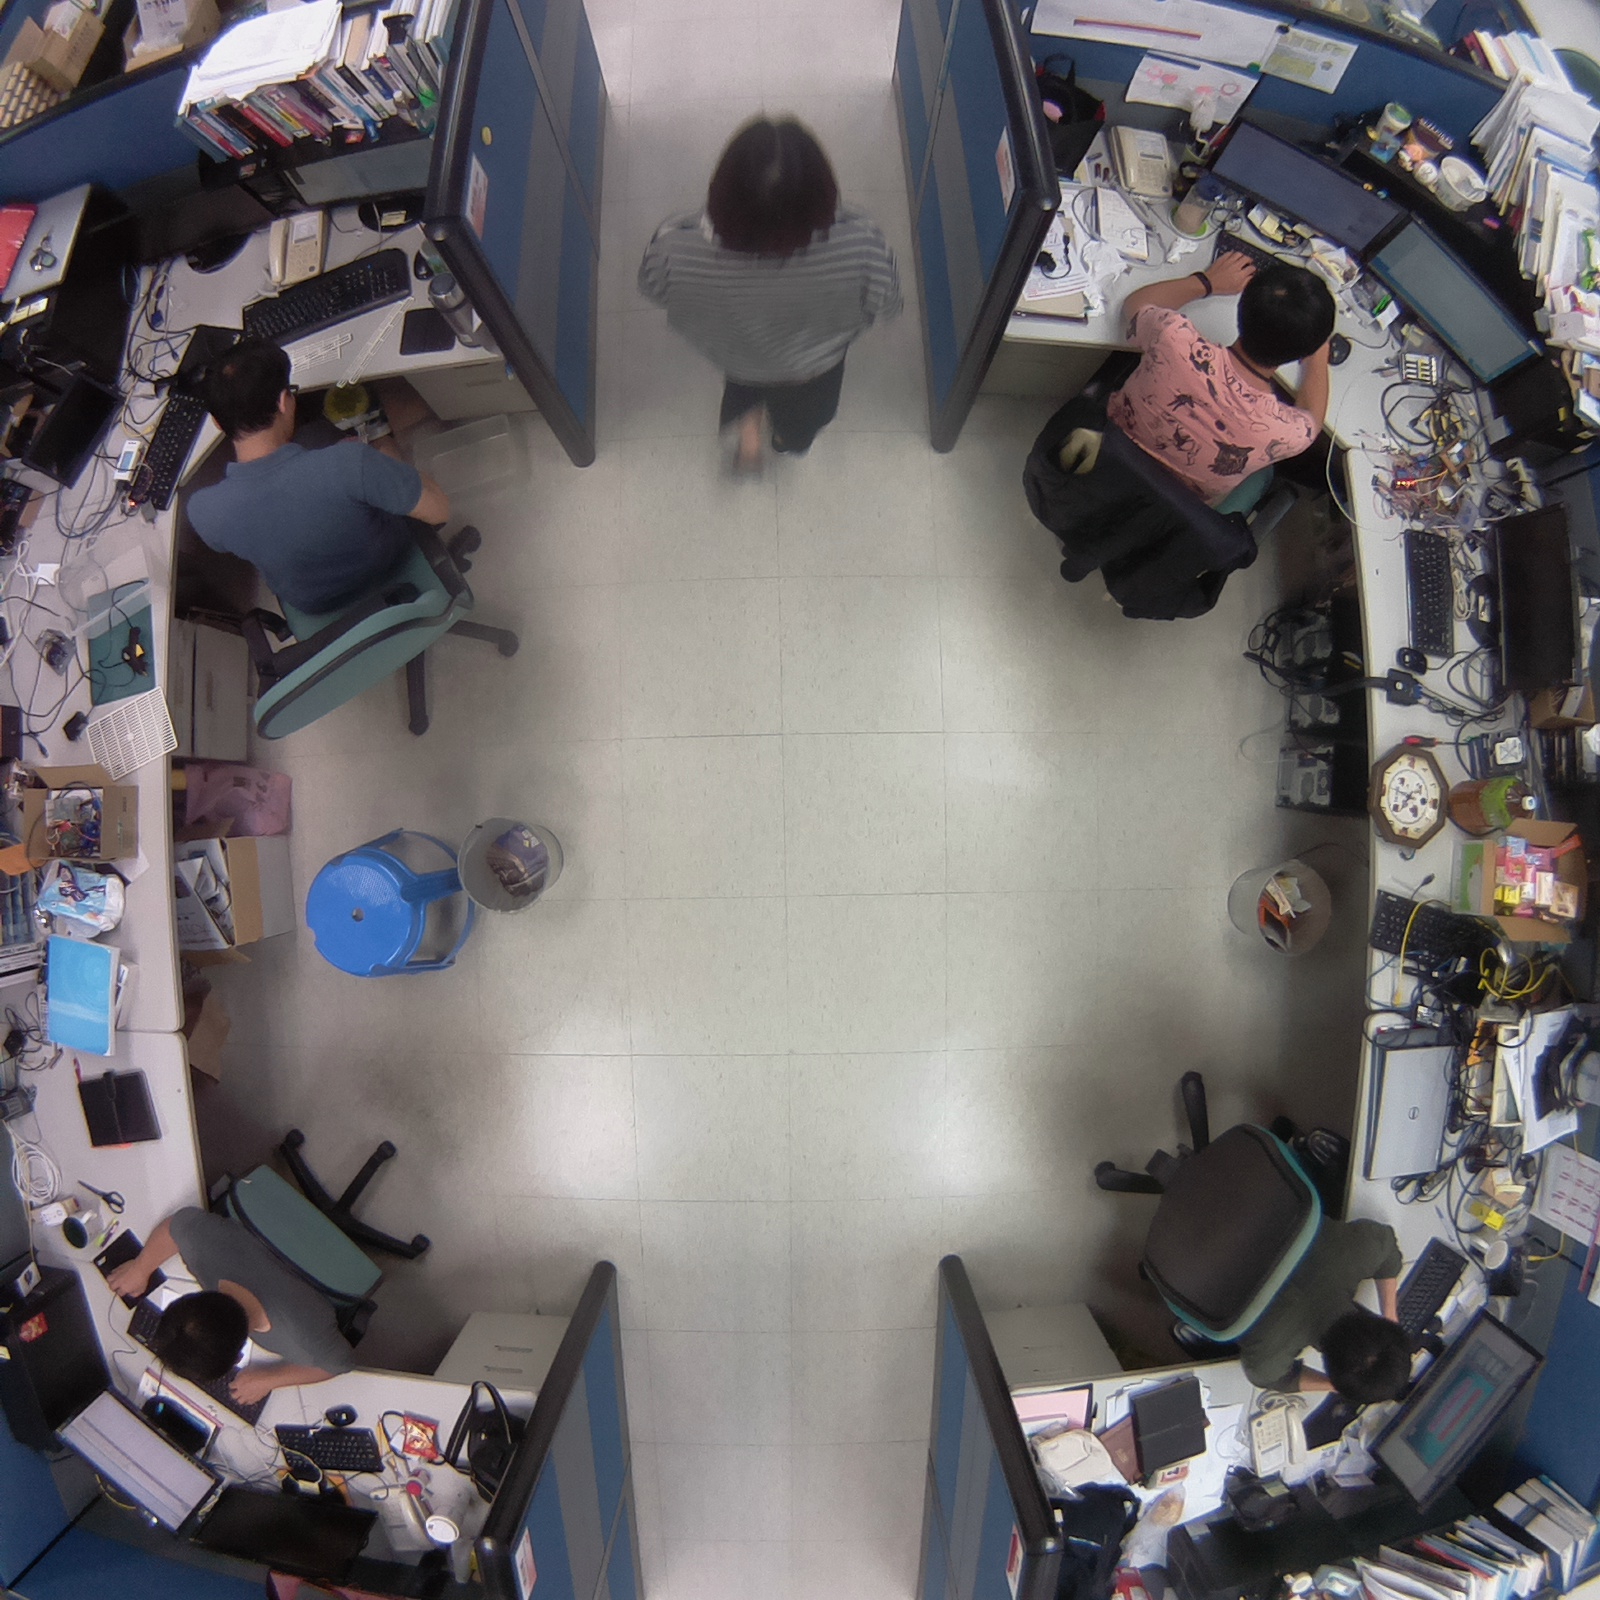head: (701, 100, 854, 259), (194, 333, 305, 445), (1231, 261, 1346, 369), (1315, 1304, 1419, 1414), (143, 1288, 254, 1386)
sitting: (160, 335, 535, 752), (1060, 1045, 1429, 1418), (1014, 221, 1338, 637), (100, 1114, 447, 1406)
walking: (624, 106, 912, 504)
